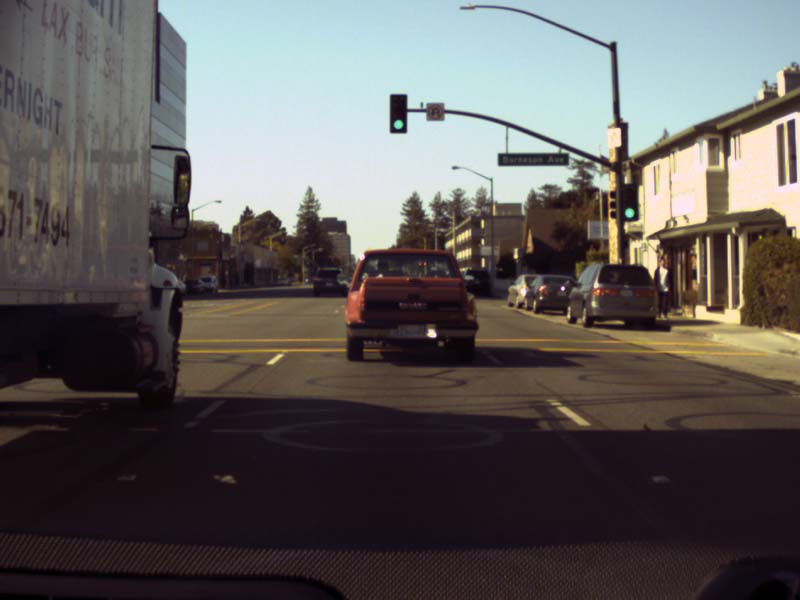Green: (389, 93, 406, 133), (621, 185, 637, 220)
